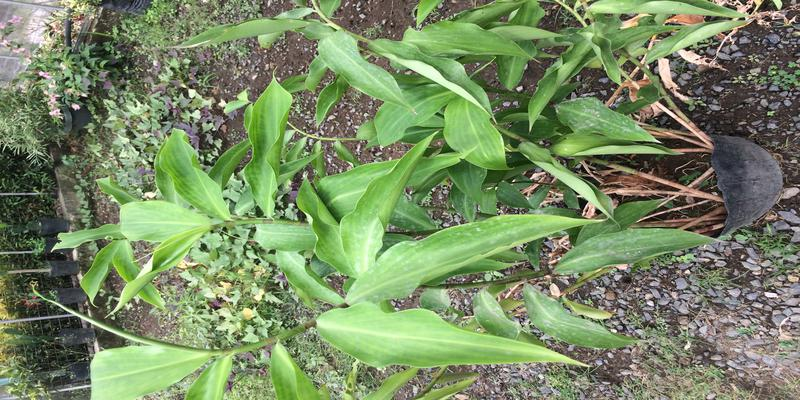Insulin: (287, 32, 726, 356)
